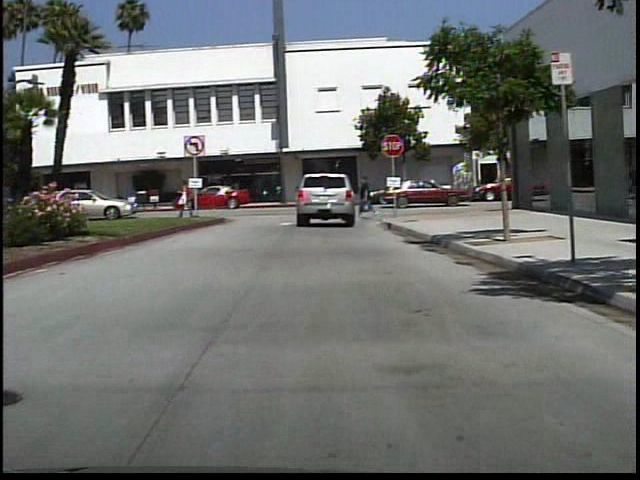person: (171, 175, 201, 220), (358, 172, 381, 221), (229, 177, 246, 204)
